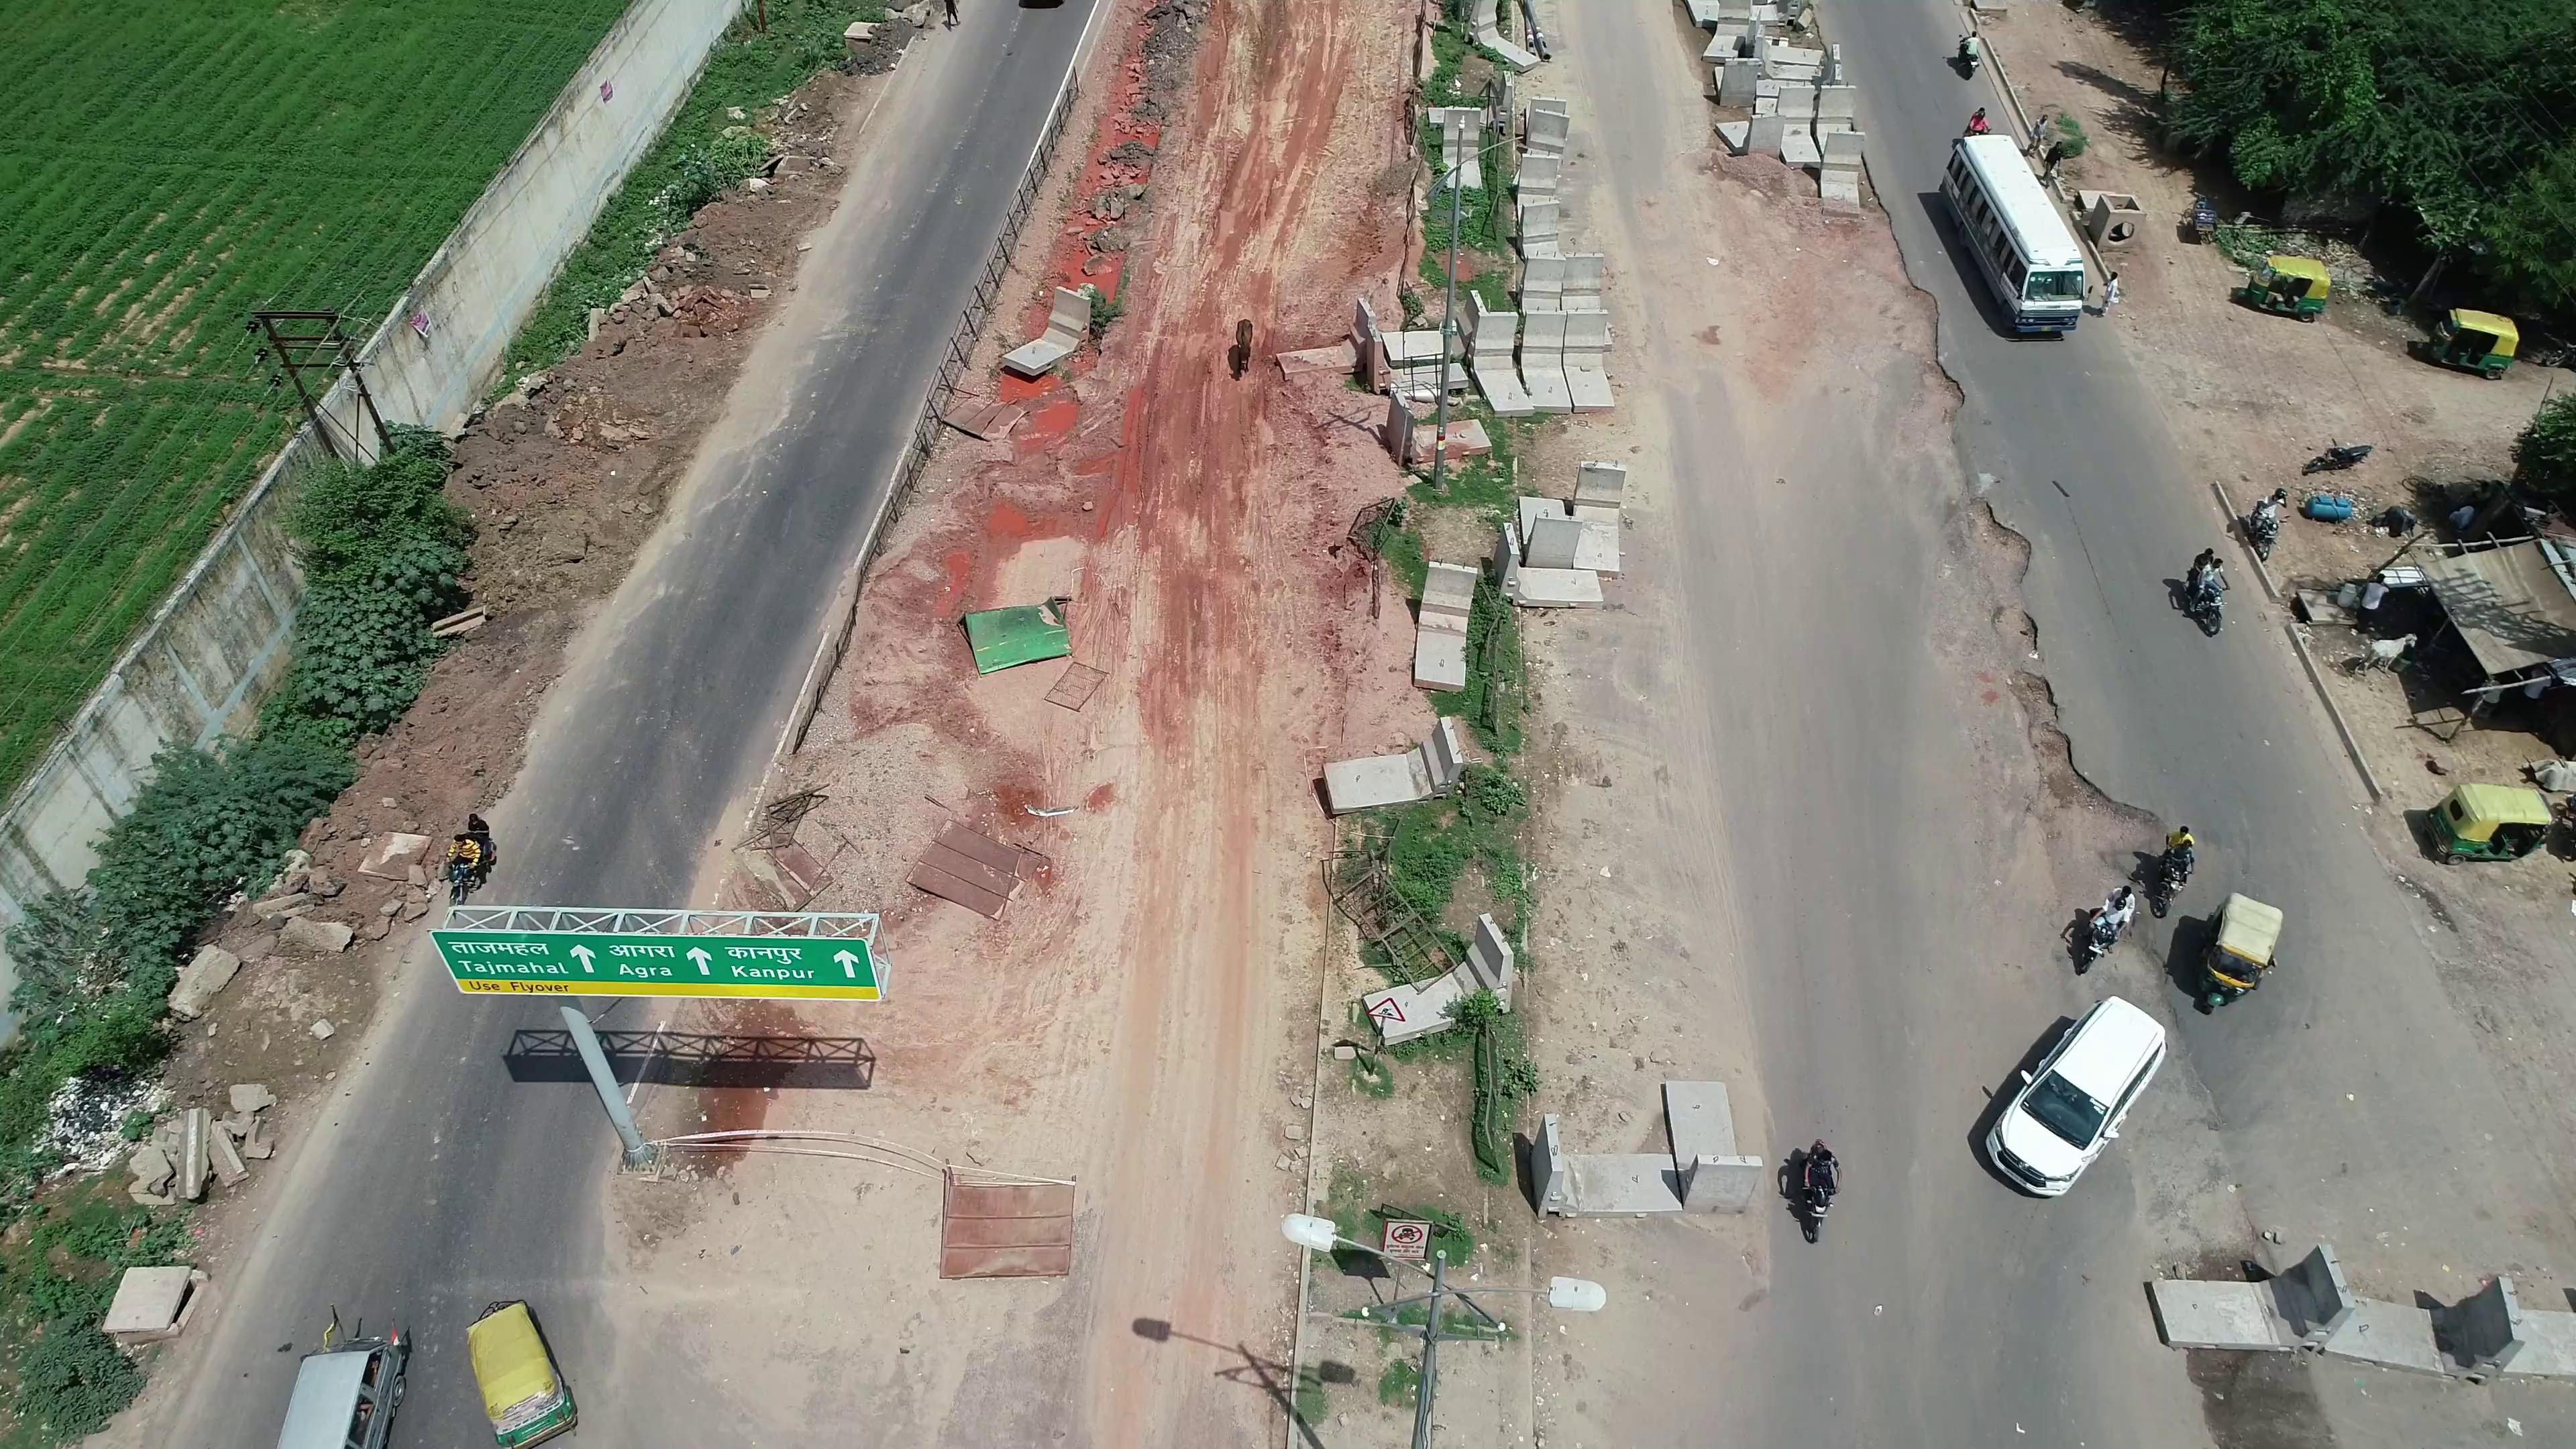Potholes: (1990, 672, 2167, 849), (1937, 478, 2038, 602), (1969, 609, 2063, 672)
